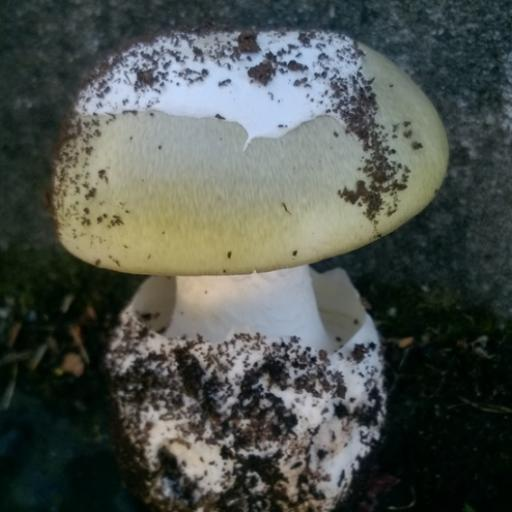mushroom: (53, 29, 447, 275), (166, 267, 334, 348)
